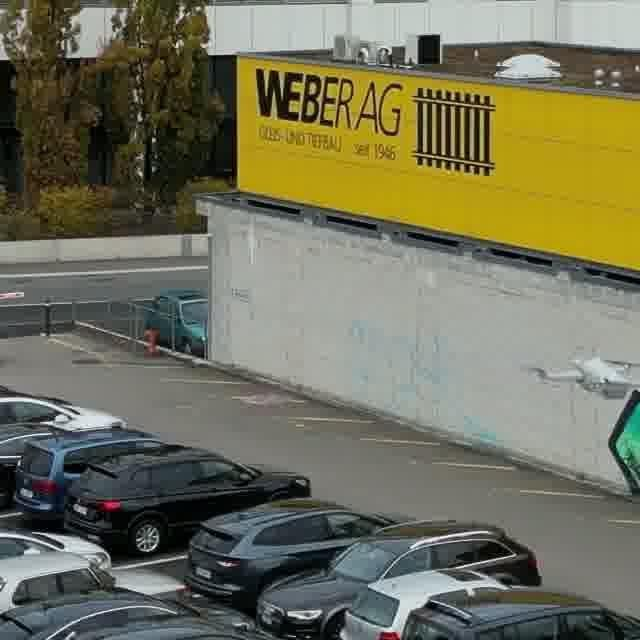Drohne: (530, 356, 639, 397)
